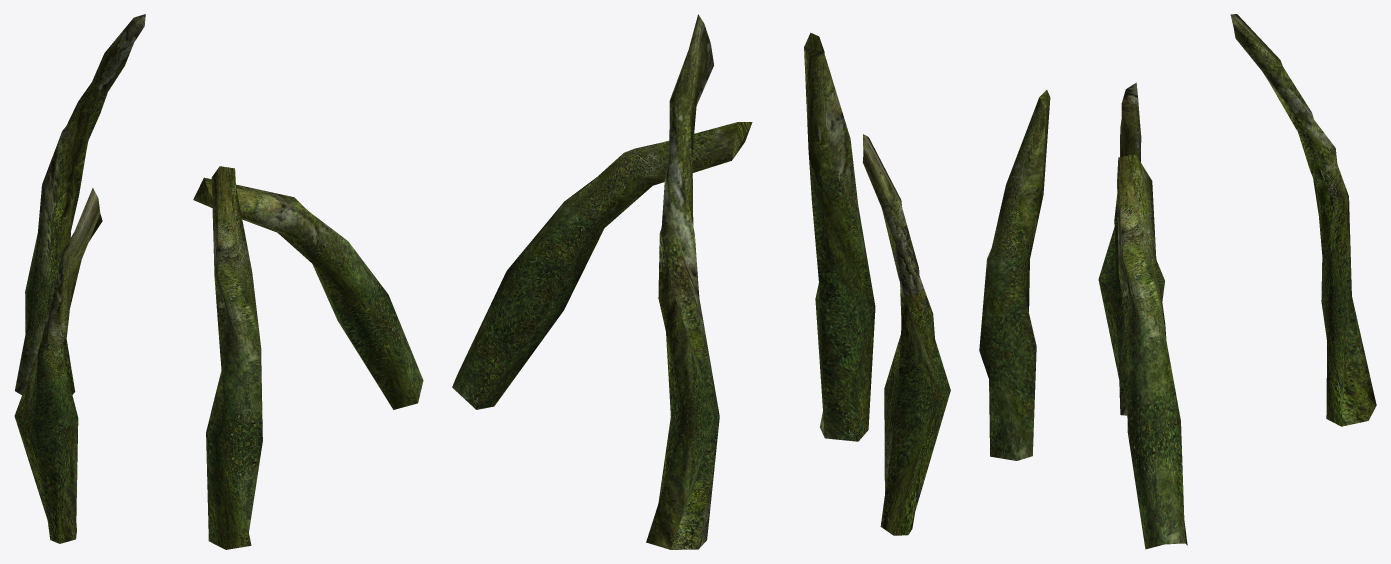
The model's file is prayer_tree_roof_01.glb.
The picture shows the model from 3 angles, left to right: view 1: azimuth 30°, elevation 25°; view 2: azimuth 150°, elevation 25°; view 3: azimuth 270°, elevation 25°; orthographic projection. The views are drawn at different scales.
Visible parts, largest first — view 1: prayer_tree_roof_01; view 2: prayer_tree_roof_01; view 3: prayer_tree_roof_01.
Boxes of the visible parts, x1=… form: prayer_tree_roof_01: x1=14, y1=14, x2=423, y2=549; prayer_tree_roof_01: x1=452, y1=14, x2=950, y2=549; prayer_tree_roof_01: x1=979, y1=14, x2=1376, y2=549.
Bounding box in the file's own units: 23.09 × 24.4 × 18.88.
Materials: 1 (1 with a texture image).
